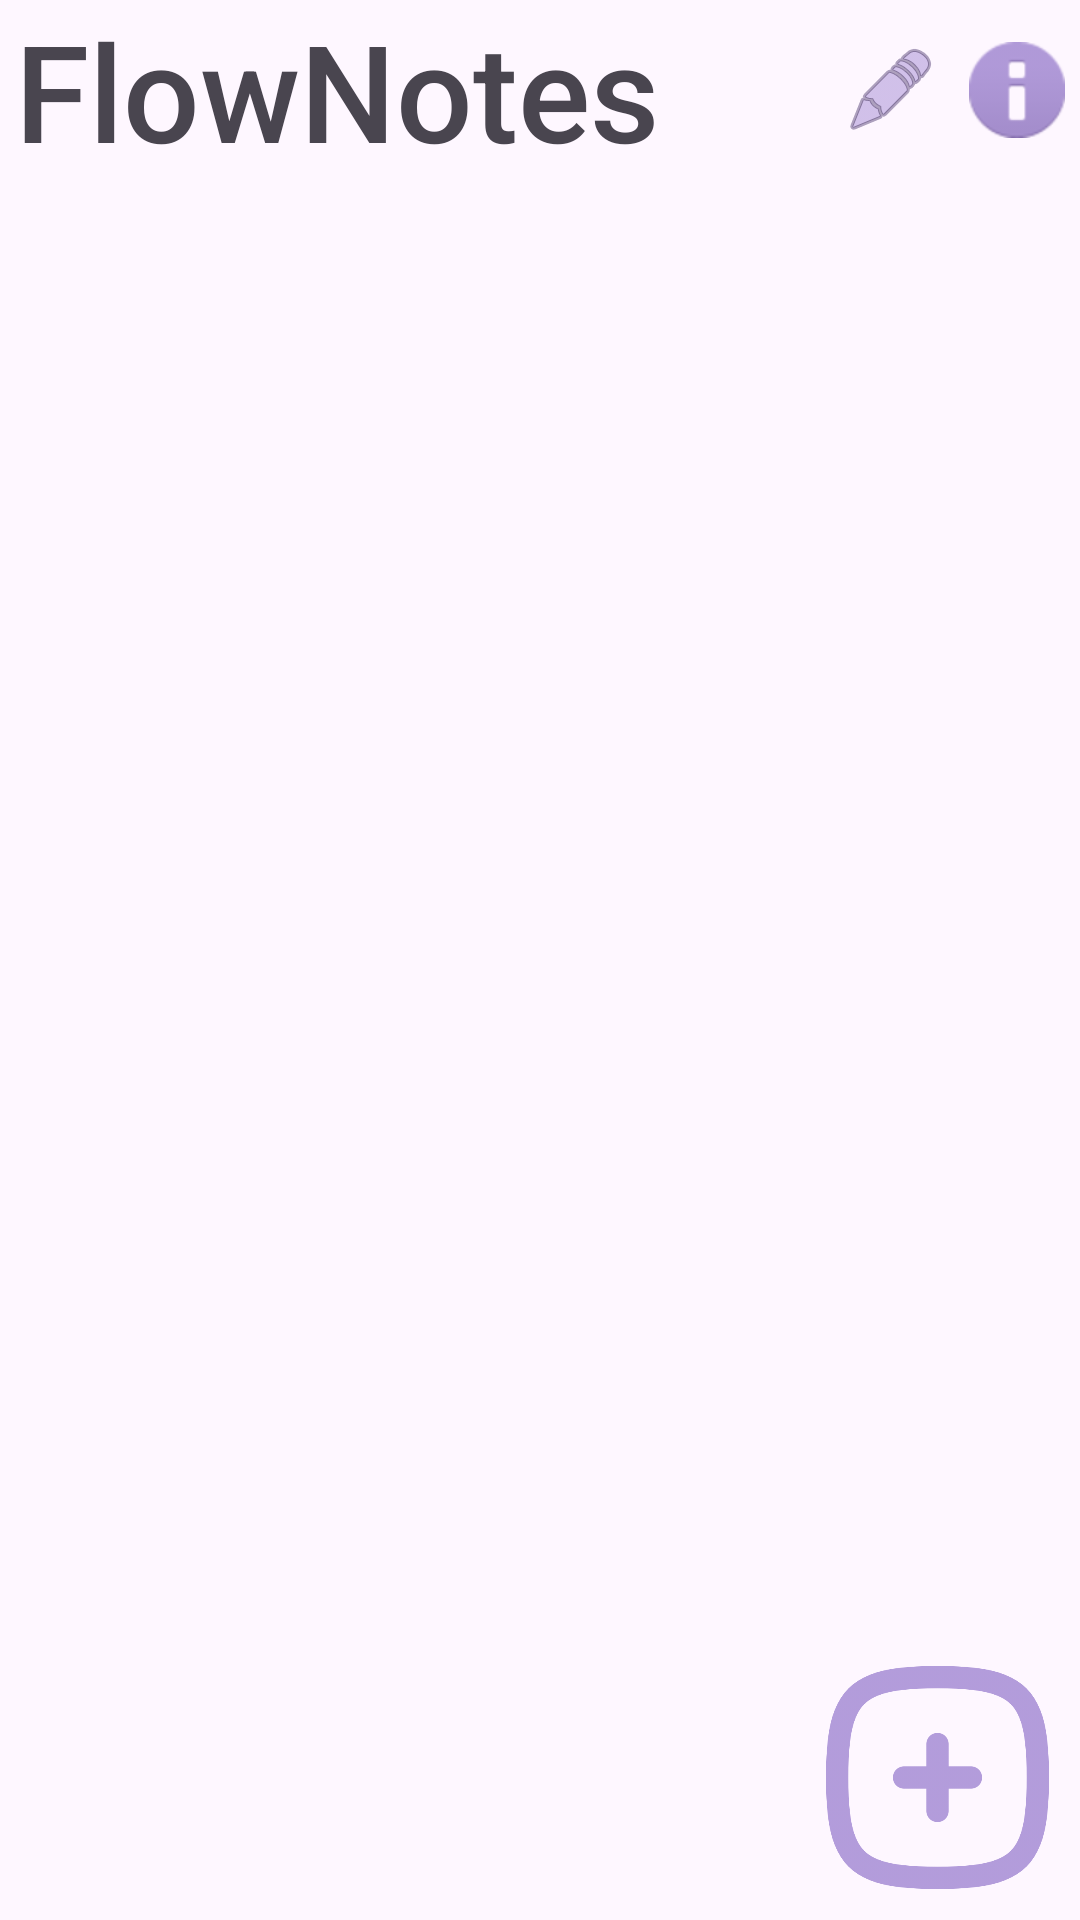

Named icons in this screenshot (1080 x 1920) and their centers, point (x, y):
edit: point (890, 89)
info: point (1017, 90)
plus: point (937, 1777)
